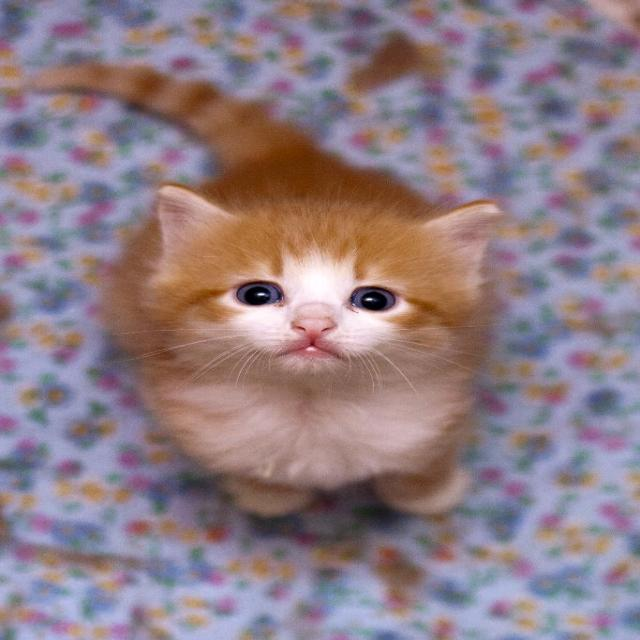Cat: (31, 62, 498, 516)
